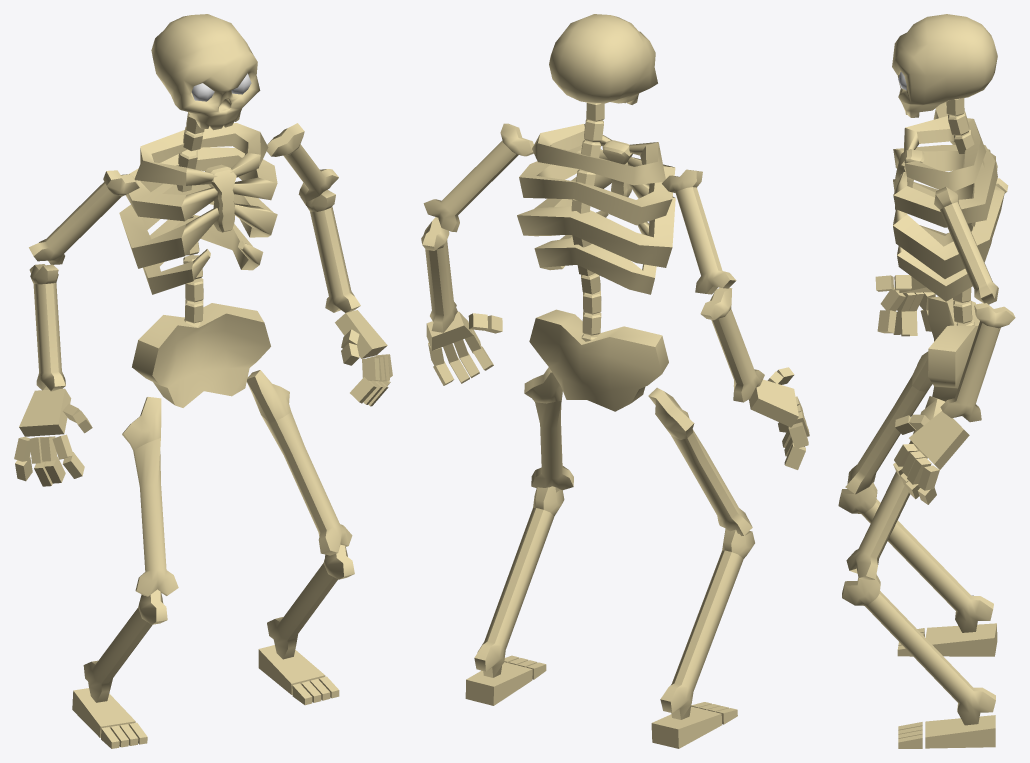
Rendered from skeleton_NOJAW_frame01.fbx.
3 renders of one model, left to right at view 1: azimuth 30°, elevation 25°; view 2: azimuth 150°, elevation 25°; view 3: azimuth 270°, elevation 25°, orthographic.
Visible parts, largest first — view 1: skeleton_incharacter_frame1; view 2: skeleton_incharacter_frame1; view 3: skeleton_incharacter_frame1.
Boxes of the visible parts, box(x1,y1,x2,y2) form: skeleton_incharacter_frame1: box(14, 14, 392, 748); skeleton_incharacter_frame1: box(421, 14, 809, 748); skeleton_incharacter_frame1: box(838, 14, 1015, 748).
Size of the model in its own units: 96.32 by 167 by 39.7.
